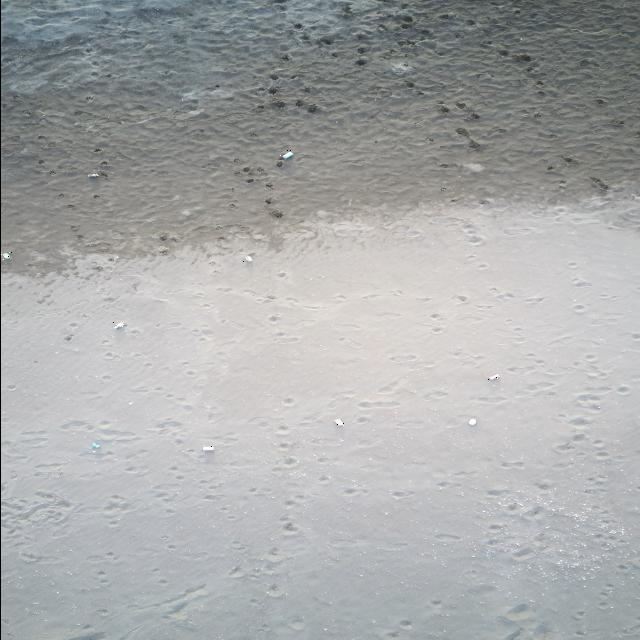Garbage: (280, 148, 292, 159), (112, 320, 125, 328), (487, 373, 500, 380), (2, 251, 12, 260), (201, 444, 212, 451), (88, 172, 100, 178), (333, 418, 342, 426), (92, 440, 100, 448), (467, 417, 475, 424), (243, 255, 252, 261)
